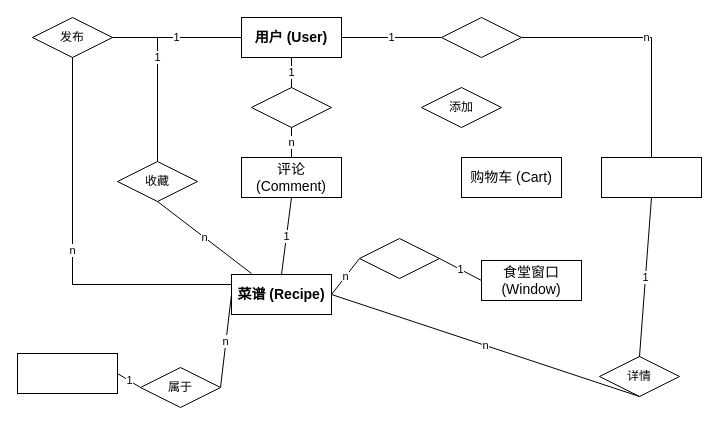
This 719x425 diagram has some shape labels left out. Here are the shapes that lost their labels. From the top down, the centre of each, then its label:
At (x=481, y=37): "下单".
At (x=291, y=107): "评论".
At (x=651, y=177): "订单 (Order)".
At (x=399, y=258): "提供".
At (x=67, y=373): "分类 (Category)".
